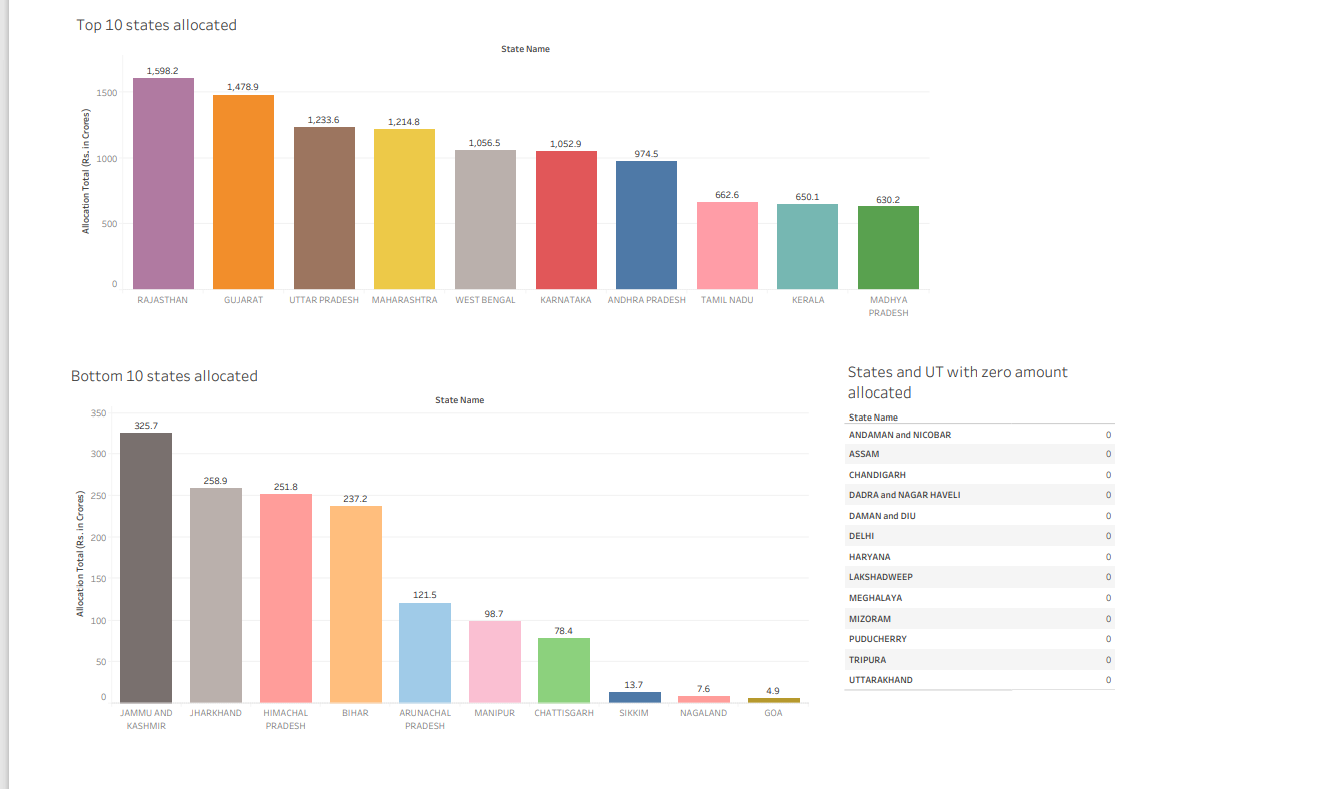

This screenshot's page, from the dashboard's own definition file:
{"tool":"tableau","page":{"name":"Dashboard 1","canvas":[1654,1169],"ordinal":0},"visuals":[{"type":"worksheet","title":"Sheet 5","mark":"Automatic","rows":["Allocation Total (Rs. in Crores)"],"cols":["State Name"],"box":[27,12,1169,423]},{"type":"worksheet","title":"Sheet 5 (3)","mark":"Automatic","rows":["State Name"],"box":[1081,487,485,523]},{"type":"worksheet","title":"Sheet 5 (2)","mark":"Automatic","rows":["Allocation Total (Rs. in Crores)"],"cols":["State Name"],"box":[19,492,1012,508]}]}

Visuals, with their boxes on the page's 1654x1169 design canvas (x1, y1, x2, y2). These are canvas units, not pixel positions in the 1322x789 screenshot, which may show the page scaled, cropped or inside an application window:
"Sheet 5" worksheet: 27/12/1196/435
"Sheet 5 (3)" worksheet: 1081/487/1566/1010
"Sheet 5 (2)" worksheet: 19/492/1031/1000
